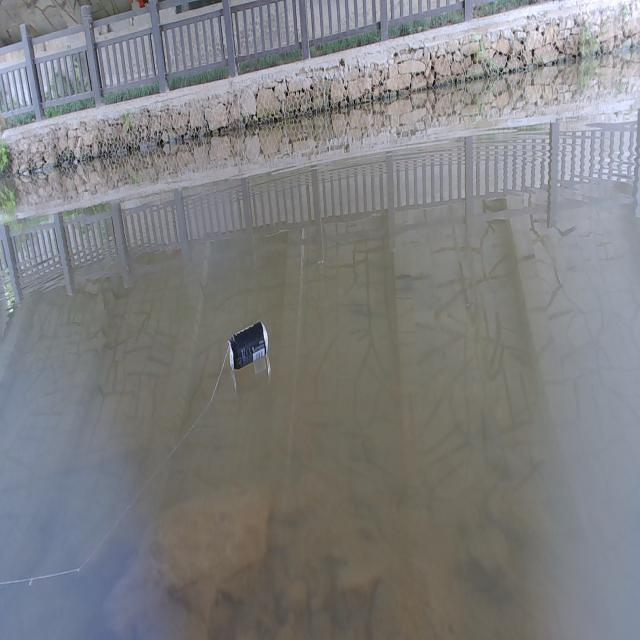Can: (227, 316, 270, 370)
